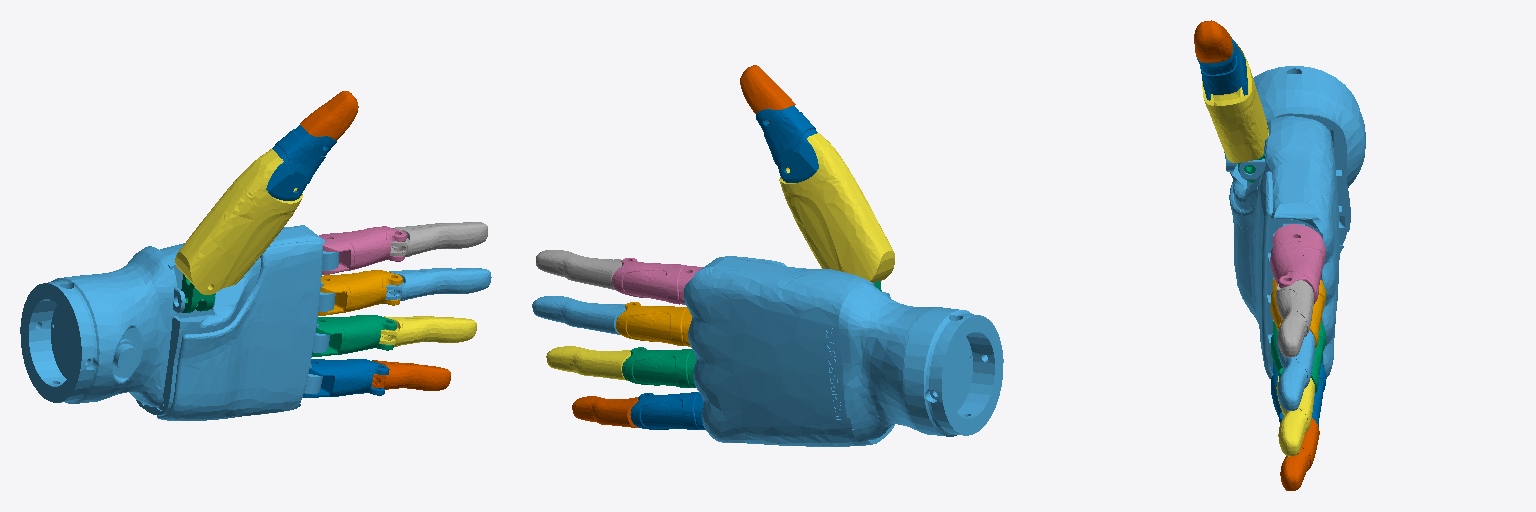
robot.urdf — inspire_hand_left:
<robot name="inspire_hand_left">
  
  <link name="base" />
  <joint name="base_joint" type="fixed">
    <parent link="base" />
    <child link="hand_base_link" />
    <origin xyz="-0.017 0 0" rpy="0.11841 -0.00159 1.56841" />
  </joint>
  <link name="hand_base_link">
    <parent link="base" />
    <inertial>
      <origin xyz="-0.0025264 -0.066047 -0.0019598" rpy="0 0 0" />
      <mass value="0.14143" />
      <inertia ixx="0.00012281" ixy="2.1711E-06" ixz="1.7709E-06" iyy="8.3832E-05" iyz="-1.6551E-06" izz="7.6663E-05" />
    </inertial>
    <visual>
      <origin xyz="0 0 0" rpy="0 0 0" />
      <geometry>
        <mesh filename="meshes/visual/left_base_link.obj" />
      </geometry>
    </visual>
    <collision>
      <origin xyz="0 -0.0136 0" rpy="1.57079 0 0" />
      <geometry>
        <cylinder length="0.0278" radius="0.028" />
      </geometry>
    </collision>
    <collision>
      <origin xyz="-0.0032 -0.038 0" rpy="0 0 0" />
      <geometry>
        <box size="0.0391 0.0202 0.0574" />
      </geometry>
    </collision>
    <collision>
      <origin xyz="-0.0032 -0.0682 0" rpy="0 0 0" />
      <geometry>
        <box size="0.0391 0.04 0.0814" />
      </geometry>
    </collision>
    <collision>
      <origin xyz="0 -0.1081 0" rpy="0 0 0" />
      <geometry>
        <box size="0.0322 0.04 0.0814" />
      </geometry>
    </collision>
    <collision>
      <origin xyz="-0.0016 -0.1340 -0.0309" rpy="0 0 0" />
      <geometry>
        <box size="0.0125 0.0111 0.0089" />
      </geometry>
    </collision>
    <collision>
      <origin xyz="-0.0016 -0.1340 -0.0118" rpy="0 0 0" />
      <geometry>
        <box size="0.0125 0.0111 0.0089" />
      </geometry>
    </collision>
    <collision>
      <origin xyz="-0.0016 -0.1340 0.0070" rpy="0 0 0" />
      <geometry>
        <box size="0.0125 0.0111 0.0089" />
      </geometry>
    </collision>
    <collision>
      <origin xyz="-0.0016 -0.1340 0.0262" rpy="0 0 0" />
      <geometry>
        <box size="0.0125 0.0111 0.0089" />
      </geometry>
    </collision>
  </link>
  <link name="thumb_proximal_base">
    <inertial>
      <origin xyz="0.0048817 0.0009382 -0.00722" rpy="0 0 0" />
      <mass value="0.0018869" />
      <inertia ixx="5.816E-08" ixy="-1.4539E-08" ixz="-4.491E-09" iyy="7.9161E-08" iyz="-1.8727E-09" izz="6.7433E-08" />
    </inertial>
    <visual>
      <origin xyz="0 0 0" rpy="0 0 0" />
      <geometry>
        <mesh filename="meshes/visual/left_thumb_proximal_base.obj" />
      </geometry>
    </visual>
    <collision>
      <origin xyz="0 0 0" rpy="0 0 0" />
      <geometry>
        <mesh filename="meshes/collision/left_thumb_proximal_base.obj" />
      </geometry>
    </collision>
  </link>
  <joint name="thumb_proximal_yaw_joint" type="revolute">
    <origin xyz="-0.01696 -0.0691 0.02045" rpy="1.5708 -1.5708 0" />
    <parent link="hand_base_link" />
    <child link="thumb_proximal_base" />
    <axis xyz="0 0 1" />
    <limit lower="0" upper="1.308" effort="1" velocity="0.5" />
  </joint>
  <link name="thumb_proximal">
    <inertial>
      <origin xyz="0.021932 -0.012785 -0.0080386" rpy="0 0 0" />
      <mass value="0.0066075" />
      <inertia ixx="1.5686E-06" ixy="7.8296E-07" ixz="8.9143E-10" iyy="1.7353E-06" iyz="1.0191E-09" izz="2.786E-06" />
    </inertial>
    <visual>
      <origin xyz="0 0 0" rpy="0 0 0" />
      <geometry>
        <mesh filename="meshes/visual/left_thumb_proximal.obj" />
      </geometry>
    </visual>
    <collision>
      <origin xyz="0 0 0" rpy="0 0 0" />
      <geometry>
        <mesh filename="meshes/collision/left_thumb_proximal.obj" />
      </geometry>
    </collision>
  </link>
  <joint name="thumb_proximal_pitch_joint" type="revolute">
    <origin xyz="0.0099867 0.0098242 -0.0089" rpy="-1.5708 0 0.16939" />
    <parent link="thumb_proximal_base" />
    <child link="thumb_proximal" />
    <axis xyz="0 0 -1" />
    <limit lower="0" upper="0.6" effort="1" velocity="0.5" />
  </joint>
  <link name="thumb_intermediate">
    <inertial>
      <origin xyz="0.0095544 0.0016282 -0.0071997" rpy="0 0 0" />
      <mass value="0.0037847" />
      <inertia ixx="3.6981E-07" ixy="9.8581E-08" ixz="-4.7469E-12" iyy="3.2394E-07" iyz="-1.0939E-12" izz="4.6531E-07" />
    </inertial>
    <visual>
      <origin xyz="0 0 0" rpy="0 0 0" />
      <geometry>
        <mesh filename="meshes/visual/left_thumb_intermediate.obj" />
      </geometry>
    </visual>
    <collision>
      <origin xyz="0 0 0" rpy="0 0 0" />
      <geometry>
        <mesh filename="meshes/collision/left_thumb_intermediate.obj" />
      </geometry>
    </collision>
  </link>
  <joint name="thumb_intermediate_joint" type="revolute">
    <origin xyz="0.04407 -0.034553 -0.0008" rpy="0 0 0" />
    <parent link="thumb_proximal" />
    <child link="thumb_intermediate" />
    <axis xyz="0 0 -1" />
    <limit lower="0" upper="0.8" effort="1" velocity="0.5" />
    <mimic joint="thumb_proximal_pitch_joint" multiplier="1.334" offset="0" />
  </joint>
  <link name="thumb_distal">
    <inertial>
      <origin xyz="0.0092888 -0.0049529 -0.0060033" rpy="0 0 0" />
      <mass value="0.0033441" />
      <inertia ixx="1.3632E-07" ixy="5.6788E-08" ixz="-9.2764E-11" iyy="1.4052E-07" iyz="1.2283E-10" izz="2.0026E-07" />
    </inertial>
    <visual>
      <origin xyz="0 0 0" rpy="0 0 0" />
      <geometry>
        <mesh filename="meshes/visual/left_thumb_distal.obj" />
      </geometry>
    </visual>
    <collision>
      <origin xyz="0 0 0" rpy="0 0 0" />
      <geometry>
        <mesh filename="meshes/collision/left_thumb_distal.obj" scale="1 1 1" />
      </geometry>
    </collision>
  </link>
  <joint name="thumb_distal_joint" type="revolute">
    <origin xyz="0.020248 -0.010156 -0.0012" rpy="0 0 0" />
    <parent link="thumb_intermediate" />
    <child link="thumb_distal" />
    <axis xyz="0 0 -1" />
    <limit lower="0" upper="0.4" effort="1" velocity="0.5" />
    <mimic joint="thumb_proximal_pitch_joint" multiplier="0.667" offset="0" />
  </joint>
  <link name="index_proximal">
    <inertial>
      <origin xyz="0.0012259 -0.011942 -0.0060001" rpy="0 0 0" />
      <mass value="0.0042403" />
      <inertia ixx="6.6232E-07" ixy="1.5775E-08" ixz="1.8515E-12" iyy="2.1146E-07" iyz="5.0828E-12" izz="6.9398E-07" />
    </inertial>
    <visual>
      <origin xyz="0 0 0" rpy="0 0 0" />
      <geometry>
        <mesh filename="meshes/visual/left_index_proximal.obj" />
      </geometry>
    </visual>
    <collision>
      <origin xyz="0 0 0" rpy="0 0 0" />
      <geometry>
        <mesh filename="meshes/collision/left_index_proximal.obj" />
      </geometry>
    </collision>
  </link>
  <joint name="index_proximal_joint" type="revolute">
    <origin xyz="0.00028533 -0.13653 0.032268" rpy="-0.034907 0 0" />
    <parent link="hand_base_link" />
    <child link="index_proximal" />
    <axis xyz="0 0 -1" />
    <limit lower="0" upper="1.47" effort="1" velocity="0.5" />
  </joint>
  <link name="index_intermediate">
    <inertial>
      <origin xyz="0.0019697 -0.019589 -0.005" rpy="0 0 0" />
      <mass value="0.0045683" />
      <inertia ixx="7.6111E-07" ixy="-8.7637E-08" ixz="-3.7751E-13" iyy="9.6076E-08" iyz="-9.9444E-13" izz="7.8179E-07" />
    </inertial>
    <visual>
      <origin xyz="0 0 0" rpy="0 0 0" />
      <geometry>
        <mesh filename="meshes/visual/left_index_intermediate.obj" />
      </geometry>
    </visual>
    <collision>
      <origin xyz="0 0 0" rpy="0 0 0" />
      <geometry>
        <mesh filename="meshes/collision/left_index_intermediate.obj" />
      </geometry>
    </collision>
  </link>
  <joint name="index_intermediate_joint" type="revolute">
    <origin xyz="-0.0026138 -0.032026 -0.001" rpy="0 0 0" />
    <parent link="index_proximal" />
    <child link="index_intermediate" />
    <axis xyz="0 0 -1" />
    <limit lower="-0.04545" upper="1.56" effort="1" velocity="0.5" />
    <mimic joint="index_proximal_joint" multiplier="1.06399" offset="-0.04545" />
  </joint>
  <link name="middle_proximal">
    <inertial>
      <origin xyz="0.001297 -0.011934 -0.0060001" rpy="0 0 0" />
      <mass value="0.0042403" />
      <inertia ixx="6.6211E-07" ixy="1.8461E-08" ixz="1.8002E-12" iyy="2.1167E-07" iyz="6.6808E-12" izz="6.9397E-07" />
    </inertial>
    <visual>
      <origin xyz="0 0 0" rpy="0 0 0" />
      <geometry>
        <mesh filename="meshes/visual/left_index_proximal.obj" />
      </geometry>
    </visual>
    <collision>
      <origin xyz="0 0 0" rpy="0 0 0" />
      <geometry>
        <mesh filename="meshes/collision/left_index_proximal.obj" />
      </geometry>
    </collision>
  </link>
  <joint name="middle_proximal_joint" type="revolute">
    <origin xyz="0.00028533 -0.1371 0.01295" rpy="0 0 0" />
    <parent link="hand_base_link" />
    <child link="middle_proximal" />
    <axis xyz="0 0 -1" />
    <limit lower="0" upper="1.47" effort="1" velocity="0.5" />
  </joint>
  <link name="middle_intermediate">
    <inertial>
      <origin xyz="0.001921 -0.020796 -0.005" rpy="0 0 0" />
      <mass value="0.0050396" />
      <inertia ixx="9.5822E-07" ixy="-1.1425E-07" ixz="-2.4791E-12" iyy="1.0646E-07" iyz="-5.9173E-12" izz="9.8384E-07" />
    </inertial>
    <visual>
      <origin xyz="0 0 0" rpy="0 0 0" />
      <geometry>
        <mesh filename="meshes/visual/left_middle_intermediate.obj" />
      </geometry>
    </visual>
    <collision>
      <origin xyz="0 0 0" rpy="0 0 0" />
      <geometry>
        <mesh filename="meshes/collision/left_middle_intermediate.obj" />
      </geometry>
    </collision>
  </link>
  <joint name="middle_intermediate_joint" type="revolute">
    <origin xyz="-0.0024229 -0.032041 -0.001" rpy="0 0 0" />
    <parent link="middle_proximal" />
    <child link="middle_intermediate" />
    <axis xyz="0 0 -1" />
    <limit lower="-0.04545" upper="1.56" effort="1" velocity="0.5" />
    <mimic joint="middle_proximal_joint" multiplier="1.06399" offset="-0.04545" />
  </joint>
  <link name="ring_proximal">
    <inertial>
      <origin xyz="0.001297 -0.011934 -0.0060002" rpy="0 0 0" />
      <mass value="0.0042403" />
      <inertia ixx="6.6211E-07" ixy="1.8461E-08" ixz="1.5793E-12" iyy="2.1167E-07" iyz="6.6868E-12" izz="6.9397E-07" />
    </inertial>
    <visual>
      <origin xyz="0 0 0" rpy="0 0 0" />
      <geometry>
        <mesh filename="meshes/visual/left_index_proximal.obj" />
      </geometry>
    </visual>
    <collision>
      <origin xyz="0 0 0" rpy="0 0 0" />
      <geometry>
        <mesh filename="meshes/collision/left_index_proximal.obj" />
      </geometry>
    </collision>
  </link>
  <joint name="ring_proximal_joint" type="revolute">
    <origin xyz="0.00028533 -0.13691 -0.0062872" rpy="0.05236 0 0" />
    <parent link="hand_base_link" />
    <child link="ring_proximal" />
    <axis xyz="0 0 -1" />
    <limit lower="0" upper="1.47" effort="1" velocity="0.5" />
  </joint>
  <link name="ring_intermediate">
    <inertial>
      <origin xyz="0.0021753 -0.019567 -0.005" rpy="0 0 0" />
      <mass value="0.0045683" />
      <inertia ixx="7.6286E-07" ixy="-8.0635E-08" ixz="-6.1562E-13" iyy="9.431E-08" iyz="-5.8619E-13" izz="7.8177E-07" />
    </inertial>
    <visual>
      <origin xyz="0 0 0" rpy="0 0 0" />
      <geometry>
        <mesh filename="meshes/visual/left_index_intermediate.obj" />
      </geometry>
    </visual>
    <collision>
      <origin xyz="0 0 0" rpy="0 0 0" />
      <geometry>
        <mesh filename="meshes/collision/left_index_intermediate.obj" />
      </geometry>
    </collision>
  </link>
  <joint name="ring_intermediate_joint" type="revolute">
    <origin xyz="-0.0024229 -0.032041 -0.001" rpy="0 0 0" />
    <parent link="ring_proximal" />
    <child link="ring_intermediate" />
    <axis xyz="0 0 -1" />
    <limit lower="-0.04545" upper="1.56" effort="1" velocity="0.5" />
    <mimic joint="ring_proximal_joint" multiplier="1.06399" offset="-0.04545" />
  </joint>
  <link name="pinky_proximal">
    <inertial>
      <origin xyz="0.001297 -0.011934 -0.0060001" rpy="0 0 0" />
      <mass value="0.0042403" />
      <inertia ixx="6.6211E-07" ixy="1.8461E-08" ixz="1.6907E-12" iyy="2.1167E-07" iyz="6.9334E-12" izz="6.9397E-07" />
    </inertial>
    <visual>
      <origin xyz="0 0 0" rpy="0 0 0" />
      <geometry>
        <mesh filename="meshes/visual/left_index_proximal.obj" />
      </geometry>
    </visual>
    <collision>
      <origin xyz="0 0 0" rpy="0 0 0" />
      <geometry>
        <mesh filename="meshes/collision/left_index_proximal.obj" />
      </geometry>
    </collision>
  </link>
  <joint name="pinky_proximal_joint" type="revolute">
    <origin xyz="0.00028533 -0.13571 -0.025488" rpy="0.10472 0 0" />
    <parent link="hand_base_link" />
    <child link="pinky_proximal" />
    <axis xyz="0 0 -1" />
    <limit lower="0" upper="1.47" effort="1" velocity="0.5" />
  </joint>
  <link name="pinky_intermediate">
    <inertial>
      <origin xyz="0.0024748 -0.016203 -0.0050031" rpy="0 0 0" />
      <mass value="0.0035996" />
      <inertia ixx="4.3913E-07" ixy="-4.1418E-08" ixz="3.7168E-11" iyy="7.0247E-08" iyz="-5.8613E-11" izz="4.4867E-07" />
    </inertial>
    <visual>
      <origin xyz="0 0 0" rpy="0 0 0" />
      <geometry>
        <mesh filename="meshes/visual/left_pinky_intermediate.obj" />
      </geometry>
    </visual>
    <collision>
      <origin xyz="0 0 0" rpy="0 0 0" />
      <geometry>
        <mesh filename="meshes/collision/left_pinky_intermediate.obj" />
      </geometry>
    </collision>
  </link>
  <joint name="pinky_intermediate_joint" type="revolute">
    <origin xyz="-0.0024229 -0.032041 -0.001" rpy="0 0 0" />
    <parent link="pinky_proximal" />
    <child link="pinky_intermediate" />
    <axis xyz="0 0 -1" />
    <limit lower="-0.04545" upper="1.56" effort="1" velocity="0.5" />
    <mimic joint="pinky_proximal_joint" multiplier="1.06399" offset="-0.04545" />
  </joint>

  <link name="thumb_tip" />
  <joint name="thumb_tip_joint" type="fixed">
    <origin xyz="0.0202 -0.0140 -0.006" rpy="0 0 0" />
    <parent link="thumb_distal" />
    <child link="thumb_tip" />
  </joint>
  <link name="index_tip" />
  <joint name="index_tip_joint" type="fixed">
    <origin xyz="-0.0008 -0.045 -0.005" rpy="0 0 0" />
    <parent link="index_intermediate" />
    <child link="index_tip" />
  </joint>
  <link name="middle_tip" />
  <joint name="middle_tip_joint" type="fixed">
    <origin xyz="-0.001 -0.048 -0.005" rpy="0 0 0" />
    <parent link="middle_intermediate" />
    <child link="middle_tip" />
  </joint>
  <link name="ring_tip" />
  <joint name="ring_tip_joint" type="fixed">
    <origin xyz="-0.0008 -0.045 -0.005" rpy="0 0 0" />
    <parent link="ring_intermediate" />
    <child link="ring_tip" />
  </joint>
  <link name="pinky_tip" />
  <joint name="pinky_tip_joint" type="fixed">
    <origin xyz="-0.0008 -0.037 -0.005" rpy="0 0 0" />
    <parent link="pinky_intermediate" />
    <child link="pinky_tip" />
  </joint>
</robot>

--- Render facts (derived) ---
The picture shows the robot from 3 angles, left to right: view 1: azimuth 30°, elevation 25°; view 2: azimuth 150°, elevation 25°; view 3: azimuth 270°, elevation 25°; orthographic projection.
Model inspire_hand_left with 19 links and 18 joints (12 revolute, 6 fixed), rooted at base, posed every joint at zero.
Visible links, largest first — view 1: hand_base_link, thumb_proximal, thumb_intermediate, index_proximal, middle_intermediate, middle_proximal, ring_proximal, index_intermediate, pinky_proximal, ring_intermediate, pinky_intermediate, thumb_distal (+1 smaller); view 2: hand_base_link, thumb_proximal, thumb_intermediate, index_proximal, middle_proximal, ring_proximal, pinky_proximal, middle_intermediate, index_intermediate, ring_intermediate, thumb_distal, pinky_intermediate; view 3: hand_base_link, thumb_proximal, index_proximal, index_intermediate, middle_intermediate, thumb_intermediate, ring_intermediate, thumb_distal, pinky_intermediate, ring_proximal, middle_proximal, pinky_proximal.
Boxes of the visible links, x1=… form: hand_base_link: x1=20, y1=225, x2=338, y2=420; thumb_proximal: x1=175, y1=149, x2=302, y2=294; thumb_intermediate: x1=266, y1=125, x2=336, y2=200; index_proximal: x1=319, y1=226, x2=406, y2=274; middle_intermediate: x1=385, y1=268, x2=491, y2=300; middle_proximal: x1=318, y1=270, x2=402, y2=315; ring_proximal: x1=312, y1=315, x2=396, y2=356; index_intermediate: x1=390, y1=222, x2=487, y2=256; pinky_proximal: x1=303, y1=359, x2=389, y2=397; ring_intermediate: x1=379, y1=316, x2=476, y2=346; pinky_intermediate: x1=371, y1=360, x2=450, y2=390; thumb_distal: x1=300, y1=91, x2=358, y2=139; hand_base_link: x1=684, y1=256, x2=1003, y2=446; thumb_proximal: x1=779, y1=133, x2=894, y2=282; thumb_intermediate: x1=756, y1=106, x2=818, y2=182; index_proximal: x1=612, y1=258, x2=702, y2=304; middle_proximal: x1=616, y1=302, x2=691, y2=346; ring_proximal: x1=622, y1=347, x2=695, y2=387; pinky_proximal: x1=630, y1=392, x2=705, y2=429; middle_intermediate: x1=532, y1=296, x2=625, y2=334; index_intermediate: x1=536, y1=250, x2=621, y2=289; ring_intermediate: x1=546, y1=346, x2=630, y2=380; thumb_distal: x1=740, y1=65, x2=795, y2=122; pinky_intermediate: x1=572, y1=396, x2=638, y2=427; hand_base_link: x1=1224, y1=66, x2=1365, y2=378; thumb_proximal: x1=1202, y1=43, x2=1268, y2=162; index_proximal: x1=1270, y1=224, x2=1325, y2=303; index_intermediate: x1=1276, y1=280, x2=1313, y2=357; middle_intermediate: x1=1277, y1=330, x2=1315, y2=410; thumb_intermediate: x1=1196, y1=37, x2=1247, y2=100; ring_intermediate: x1=1276, y1=376, x2=1314, y2=456; thumb_distal: x1=1194, y1=20, x2=1232, y2=62; pinky_intermediate: x1=1280, y1=418, x2=1319, y2=490; ring_proximal: x1=1271, y1=321, x2=1325, y2=392; middle_proximal: x1=1271, y1=279, x2=1325, y2=347; pinky_proximal: x1=1271, y1=363, x2=1325, y2=426.
Size in the robot's own frame: 0.2206 by 0.0661 by 0.1688 metres.
Meshes: 9 distinct files referenced, 13 mesh visuals loaded (9 OBJ).
